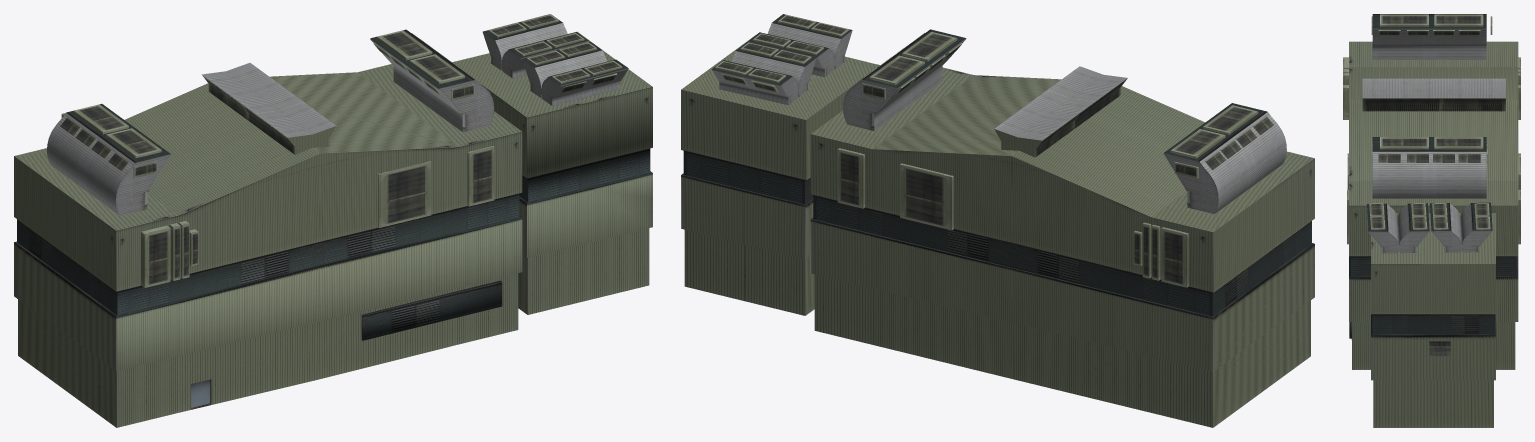
File: industrial10.obj
3 renders of one model, left to right at view 1: azimuth 30°, elevation 25°; view 2: azimuth 150°, elevation 25°; view 3: azimuth 270°, elevation 25°, orthographic. The views are drawn at different scales.
Visible parts, largest first — view 1: industrial10; view 2: industrial10; view 3: industrial10.
Part boxes in pixels (box(x1,y1,x2,y2)): industrial10: box(14, 14, 652, 427); industrial10: box(681, 14, 1314, 427); industrial10: box(1343, 14, 1520, 427).
Bounding box in the file's own units: 2188 × 952 × 740.
1 material, 1 textured.
